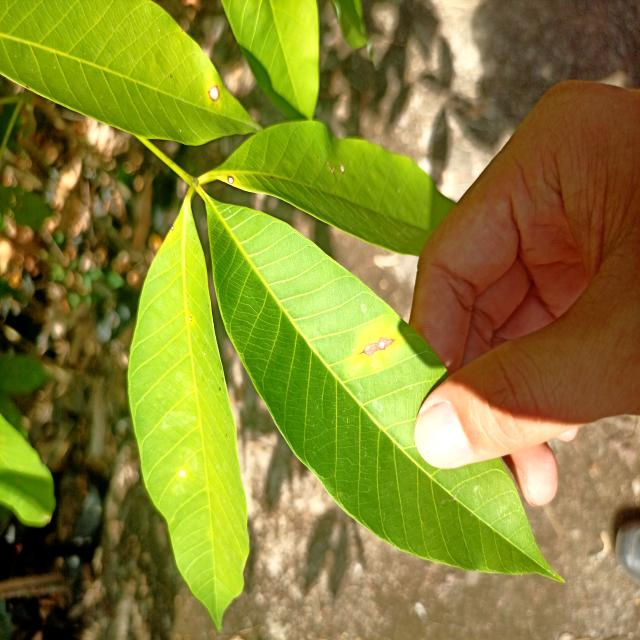Colletotrichum: (208, 85, 220, 102), (228, 175, 235, 184)
Corynespora: (356, 336, 396, 357)
